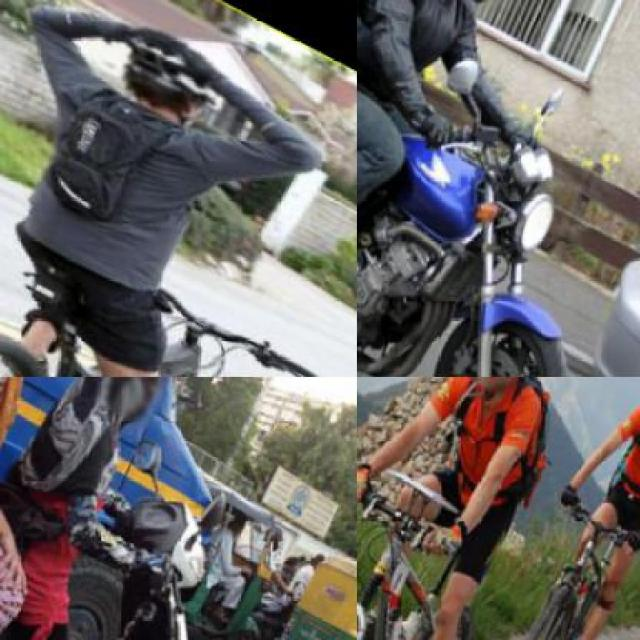With Helmet: (69, 0, 251, 146), (448, 377, 550, 401)
Without Helmet: (72, 377, 190, 431)
